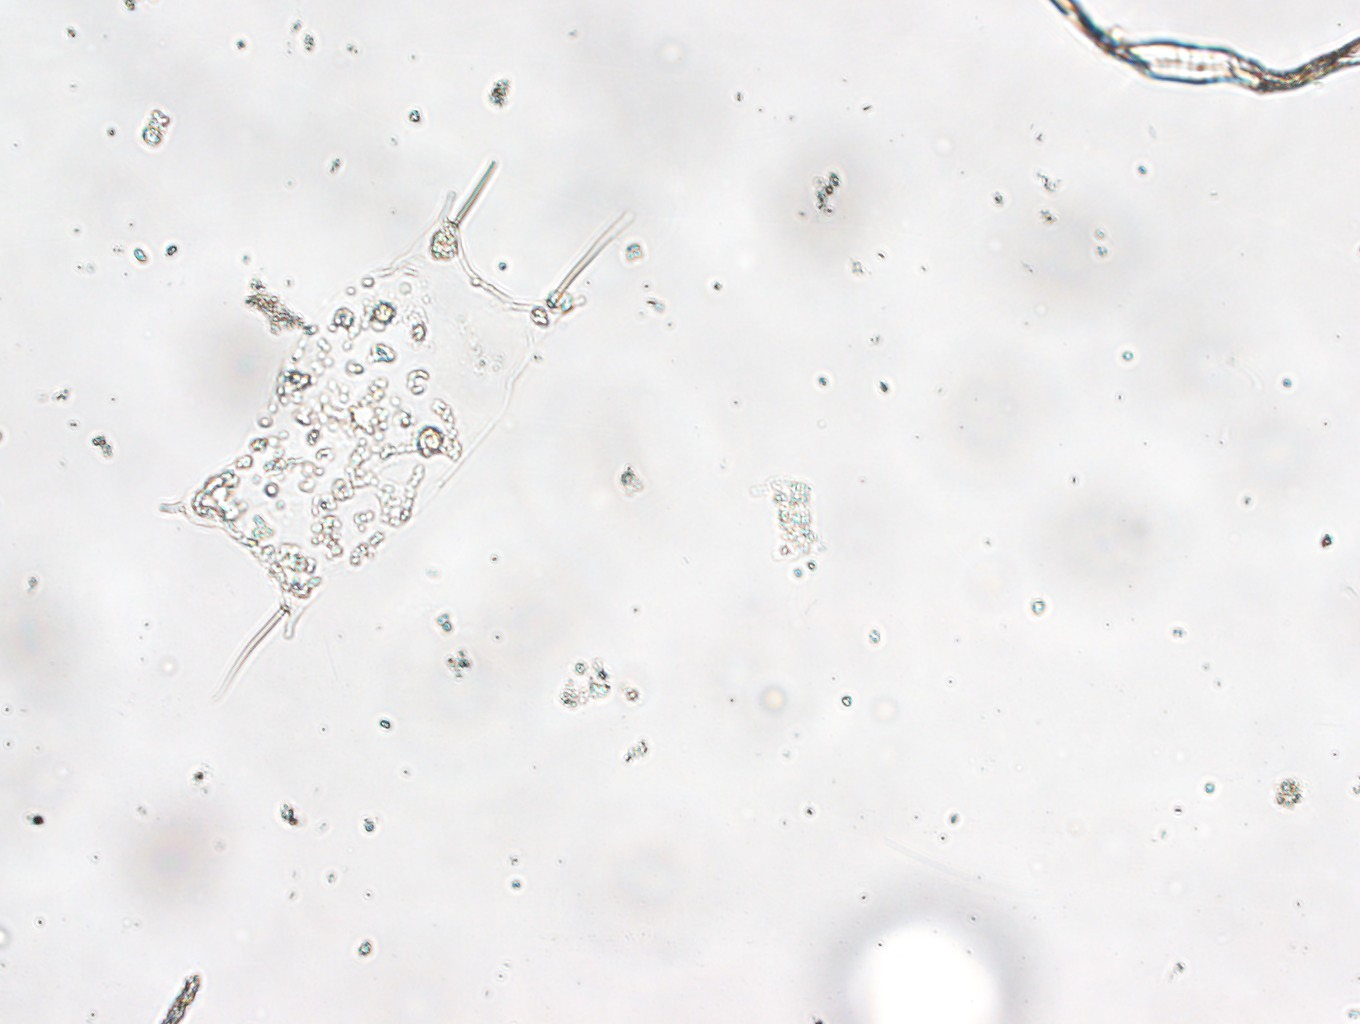biddulphia: (163, 170, 626, 695)
